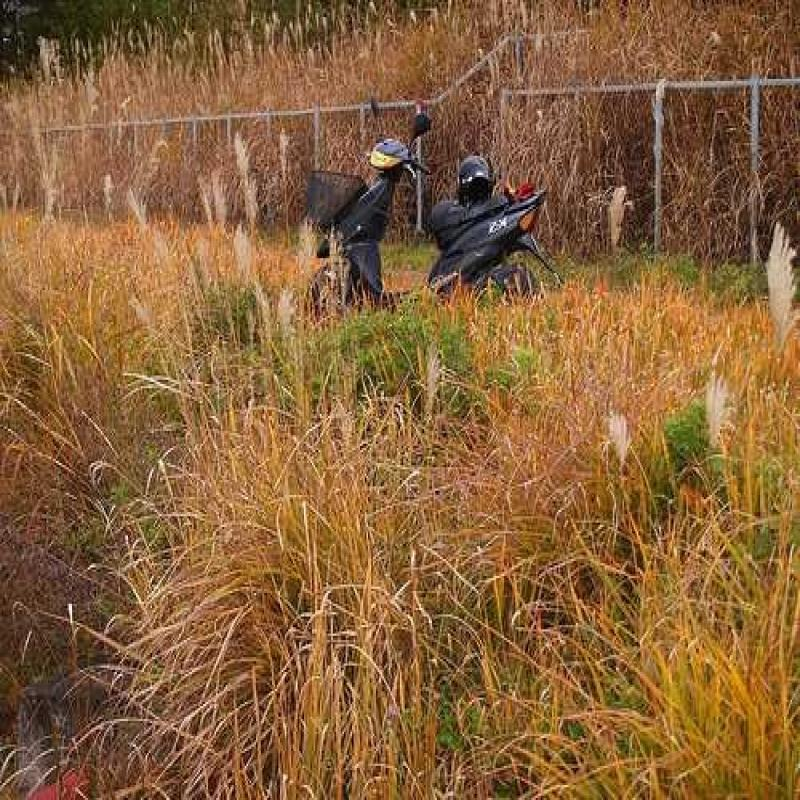bike: (335, 96, 537, 316)
